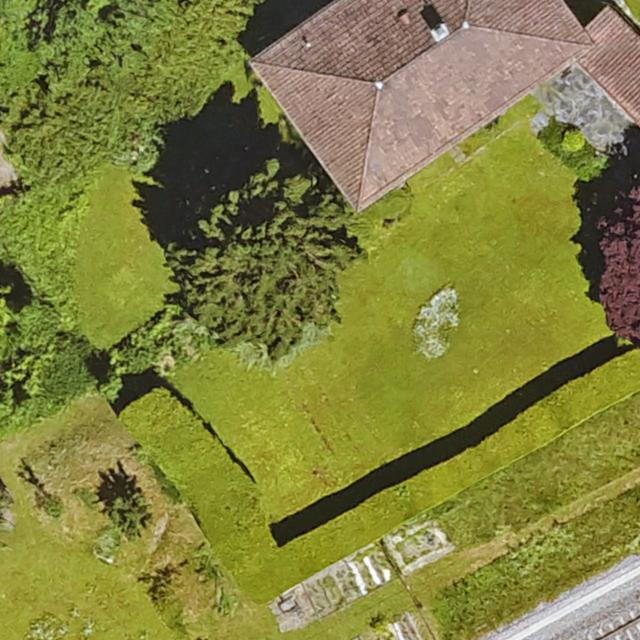tree: (176, 174, 350, 359), (595, 186, 640, 348), (107, 495, 150, 537)
